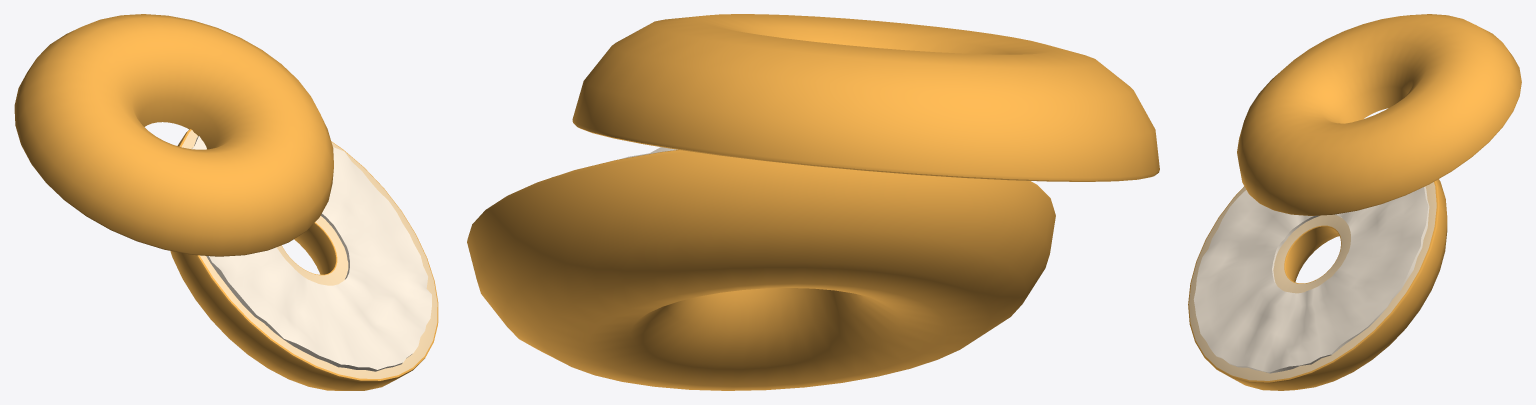
File: bagel.fbx
The picture shows the model from 3 angles, left to right: view 1: azimuth 30°, elevation 25°; view 2: azimuth 150°, elevation 25°; view 3: azimuth 270°, elevation 25°; orthographic projection. The views are drawn at different scales.
Visible parts, largest first — view 1: Torus.001; view 2: Torus.001; view 3: Torus.001.
Boxes of the visible parts, <box> form: Torus.001: <box>14,14,438,390</box>; Torus.001: <box>467,14,1159,390</box>; Torus.001: <box>1188,14,1521,390</box>.
Size of the model in its own units: 236 by 185 by 203.
1 material, 1 textured.
